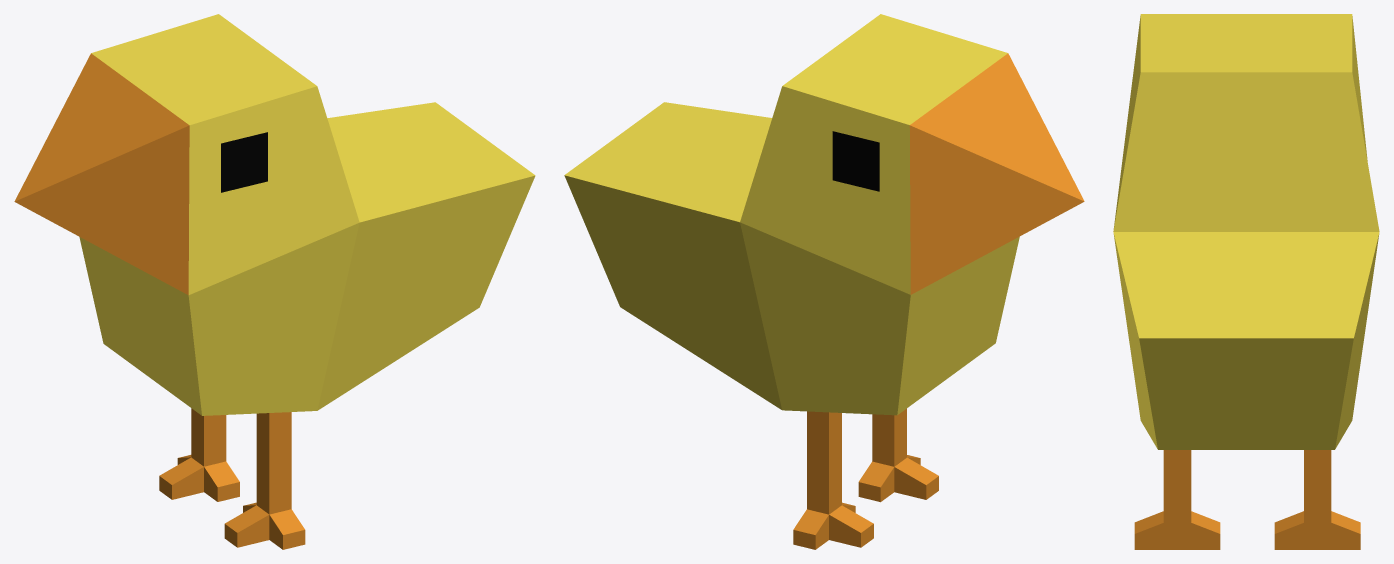
The model's file is chick.glb.
The picture shows the model from 3 angles, left to right: view 1: azimuth 30°, elevation 25°; view 2: azimuth 150°, elevation 25°; view 3: azimuth 270°, elevation 25°; orthographic projection. The views are drawn at different scales.
Visible parts, largest first — view 1: Cube; view 2: Cube; view 3: Cube.
Boxes of the visible parts, bbox=[...] form: Cube: bbox=[14, 14, 535, 549]; Cube: bbox=[564, 14, 1084, 549]; Cube: bbox=[1113, 14, 1379, 549].
Size of the model in its own units: 3.17 by 2.91 by 1.45.
